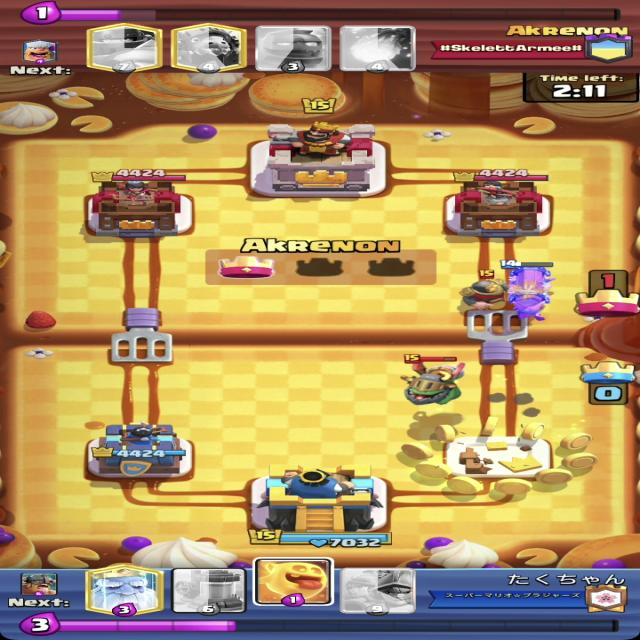Enemy-InfernoDragon: (398, 354, 466, 406)
Enemy-Knight: (454, 269, 526, 311)
Player-BattleRam: (500, 259, 557, 323)
